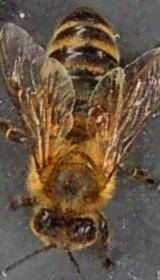varroa_mite: (85, 98, 113, 134)
